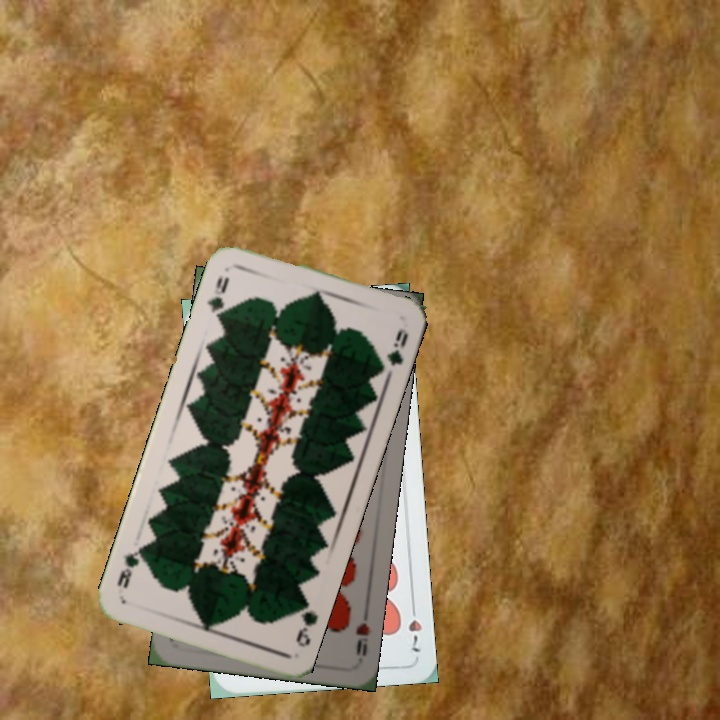G9: (292, 594, 321, 650), (202, 272, 232, 324)
H7: (405, 598, 425, 655)
H9: (351, 604, 374, 658)
